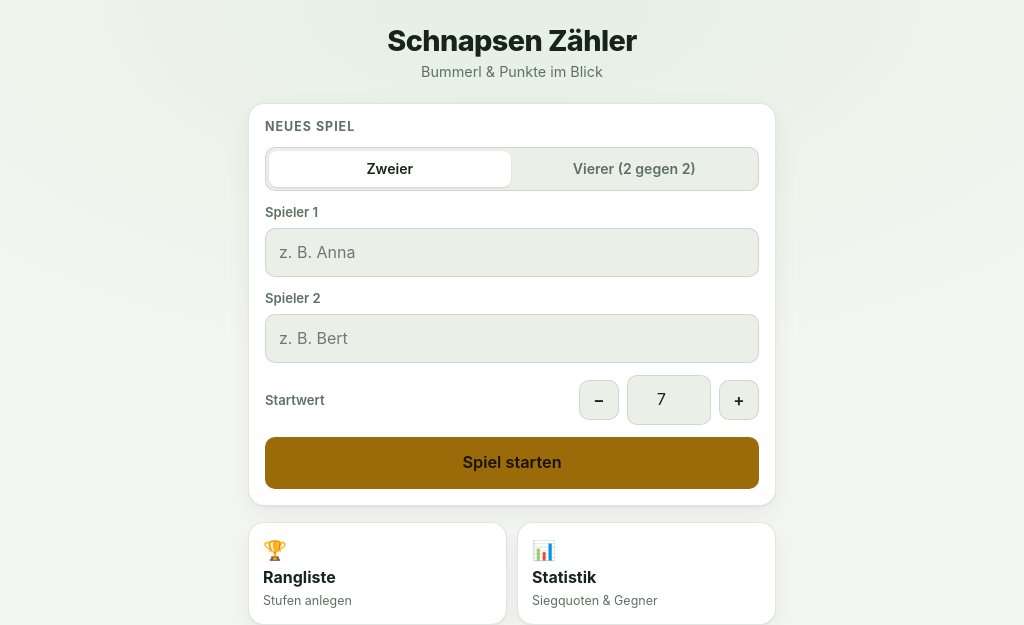
Test: App › stuft Spieler anhand der gewonnenen Bummerl in eine Stufe ein
Type "Anna" into the field labelled "Spieler 1" at (512, 253), box x1=265 y1=228 x2=759 y2=277
Type "Bert" into the field labelled "Spieler 2" at (512, 339), box x1=265 y1=314 x2=759 y2=364
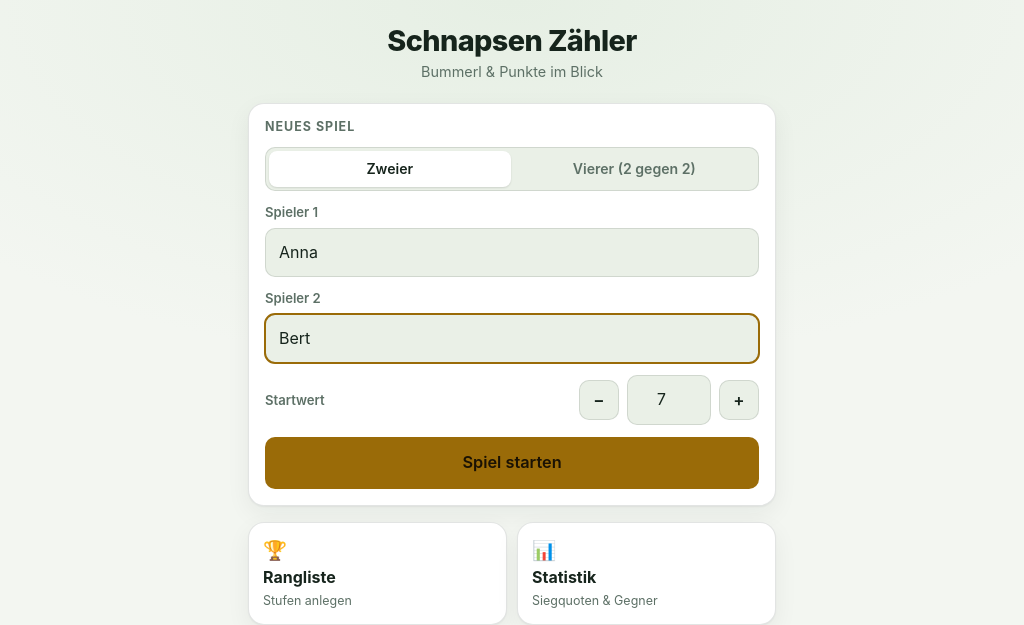
Click the button "Spiel starten" at (512, 463), box x1=265 y1=437 x2=759 y2=489
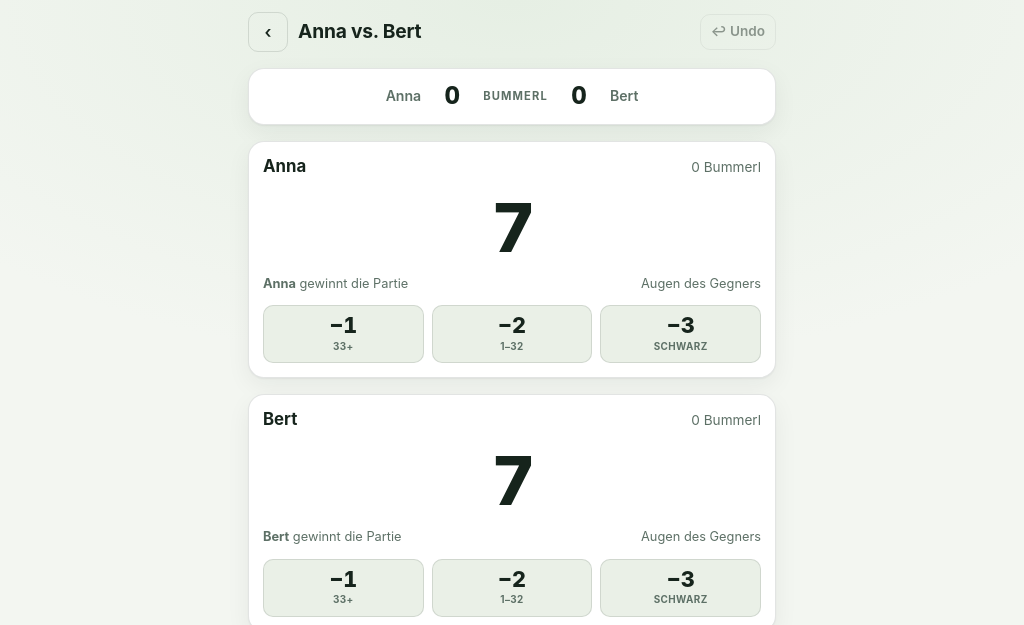
Result: the heading "Anna vs. Bert" is shown at x1=298 y1=20 x2=421 y2=44
Click the 1st button "−3 schwarz" at (681, 334), box x1=600 y1=305 x2=761 y2=363
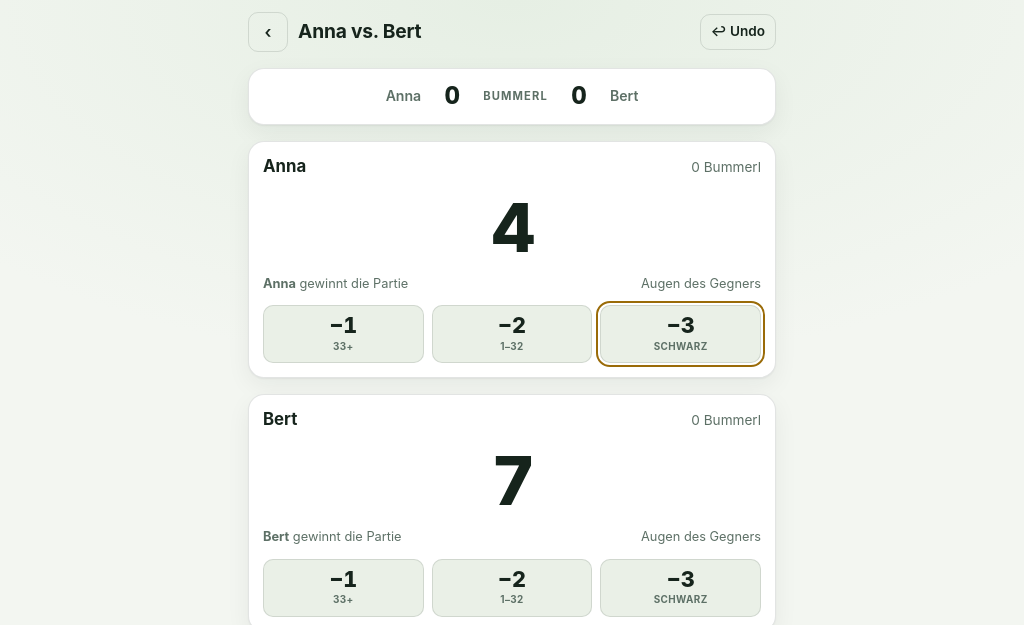
Click the 1st button "−3 schwarz" at (681, 334), box x1=600 y1=305 x2=761 y2=363
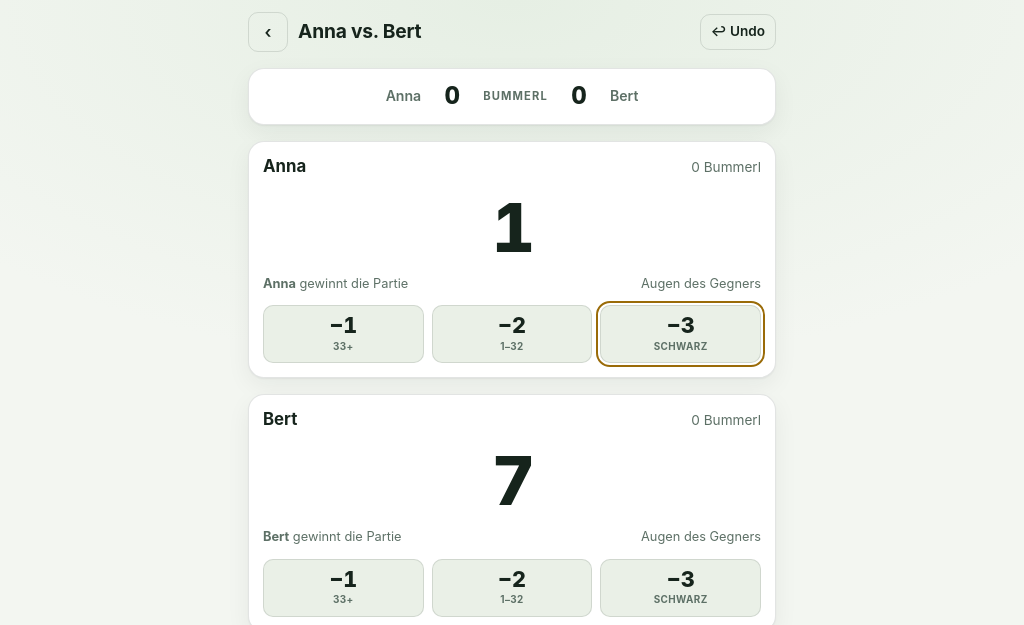
Click the 1st button "−1 33+" at (343, 334), box x1=263 y1=305 x2=424 y2=363
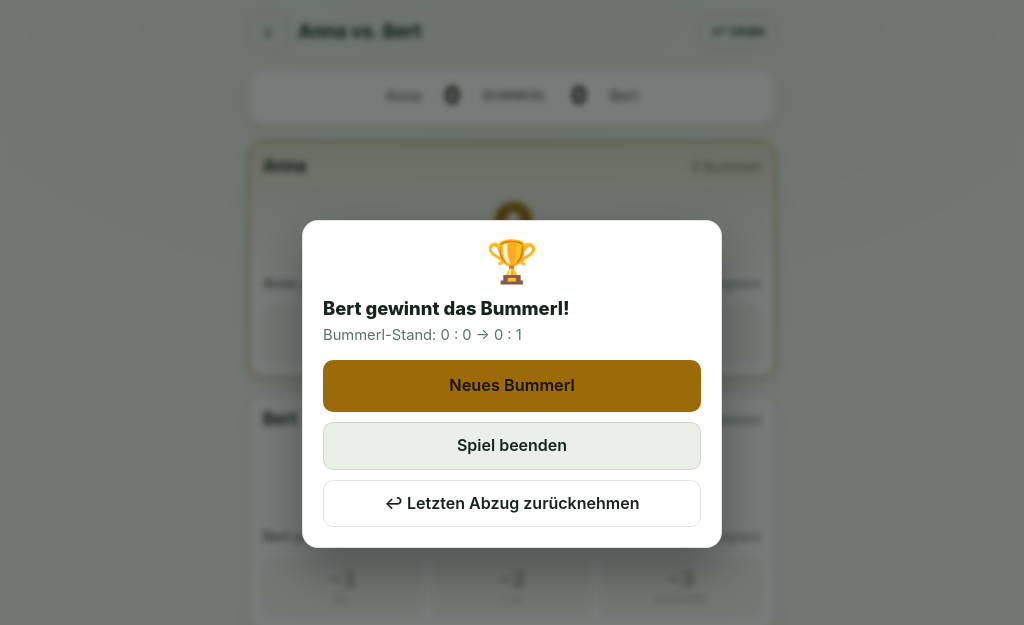
Click the button "Neues Bummerl" at (512, 386), box x1=323 y1=360 x2=701 y2=412
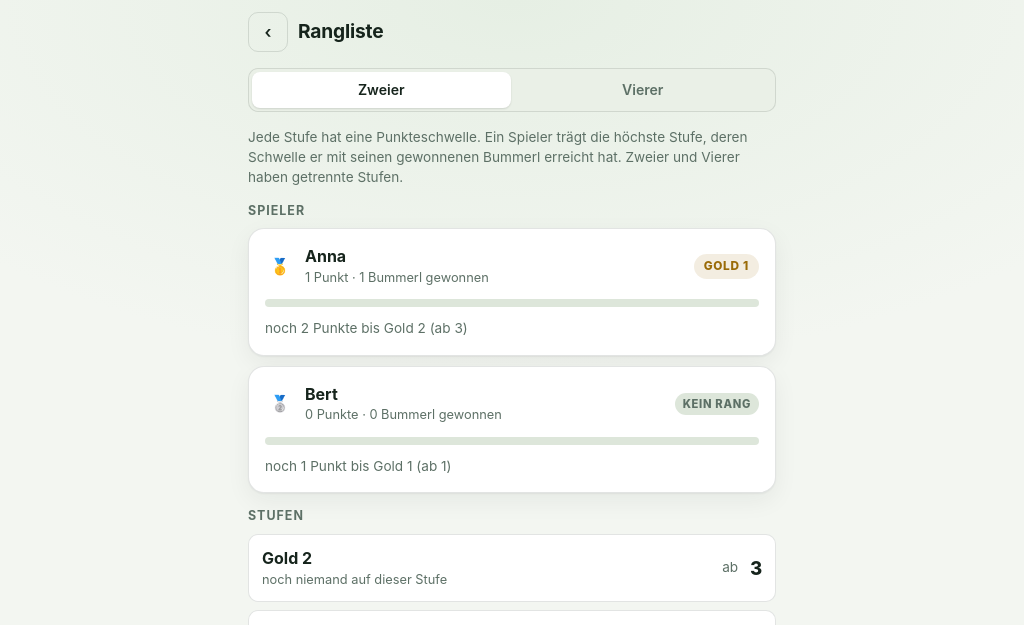
Result: the heading "Rangliste" is shown at x1=298 y1=20 x2=383 y2=44
Result: the 1st text "Gold 1" is shown at x1=694 y1=254 x2=759 y2=279
Result: the text "noch 2 Punkte bis Gold 2 (ab 3)" is shown at x1=265 y1=320 x2=468 y2=336
